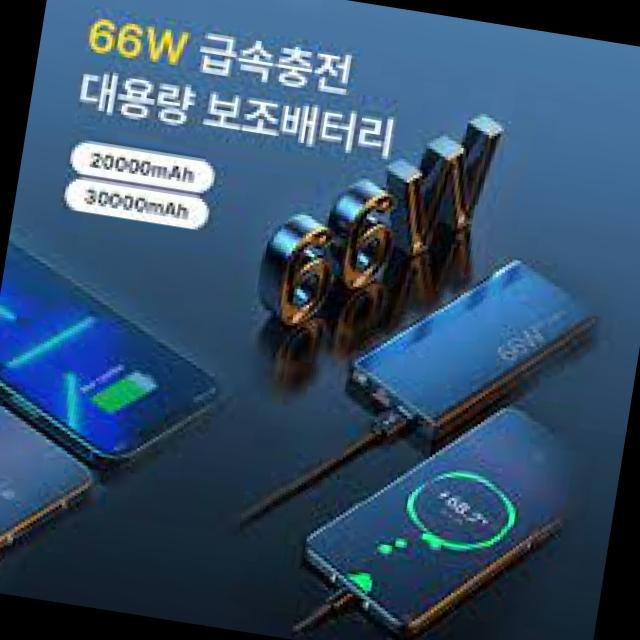power_bank: (344, 234, 606, 466)
